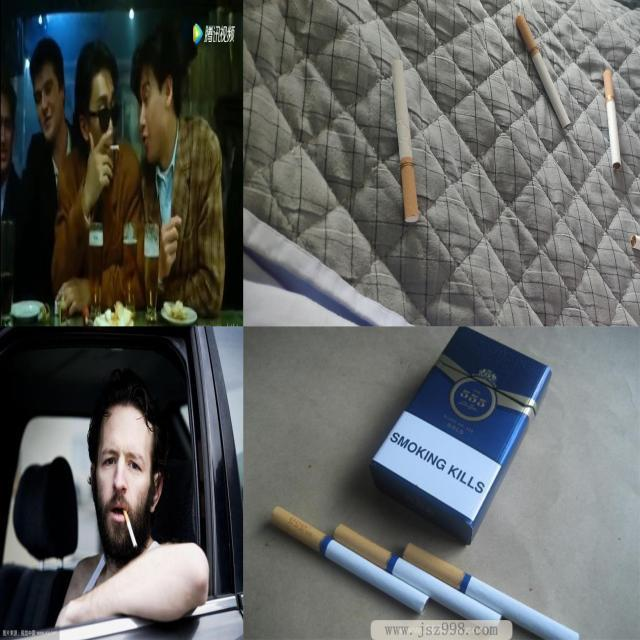smoking: (332, 524, 502, 630), (270, 506, 430, 616), (402, 542, 580, 640), (515, 14, 572, 130), (392, 59, 419, 223), (603, 70, 622, 170), (120, 505, 140, 551), (110, 142, 120, 154)
